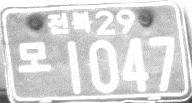0: (87, 39, 119, 95)
1: (64, 39, 83, 96)
2: (94, 10, 117, 36)
4: (119, 36, 150, 91)
7: (149, 35, 176, 93)
9: (116, 8, 136, 36)
모: (16, 39, 52, 74)
전북_O: (46, 11, 92, 36)
